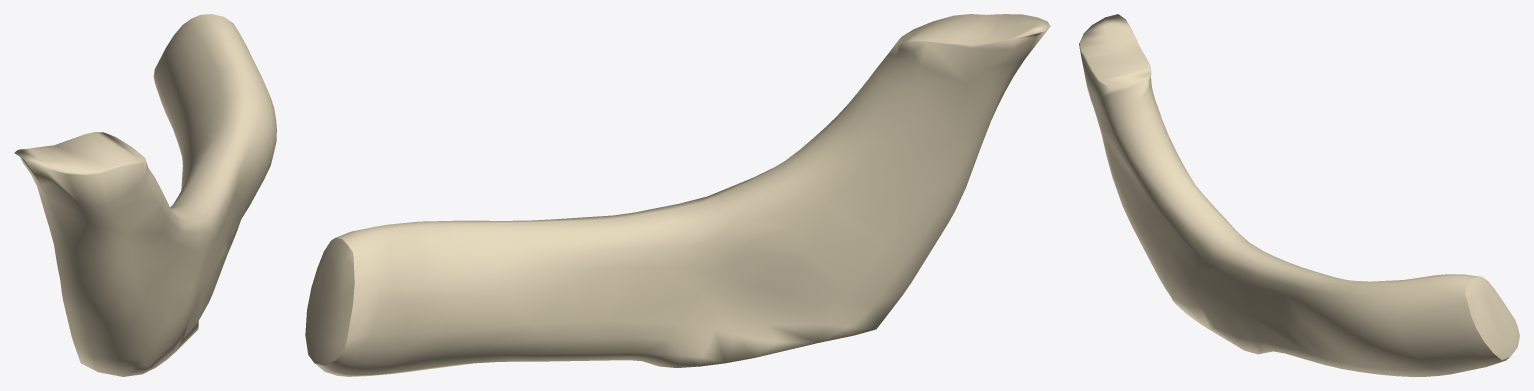
File: esqueleto-costal-cartilage-of-ninth-rib-l.glb
The picture shows the model from 3 angles, left to right: view 1: azimuth 30°, elevation 25°; view 2: azimuth 150°, elevation 25°; view 3: azimuth 270°, elevation 25°; orthographic projection. The views are drawn at different scales.
Visible parts, largest first — view 1: Costal cartilage of ninth rib.l; view 2: Costal cartilage of ninth rib.l; view 3: Costal cartilage of ninth rib.l.
Boxes of the visible parts, x1,y1,x2,y2 form: Costal cartilage of ninth rib.l: [14, 14, 276, 376]; Costal cartilage of ninth rib.l: [305, 14, 1050, 376]; Costal cartilage of ninth rib.l: [1079, 14, 1519, 376].
Size of the model in its own units: 0.0619 by 0.0394 by 0.0667.
